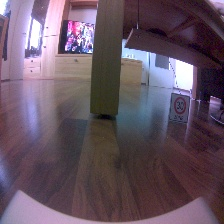dreisiger_zone: (168, 93, 190, 125)
